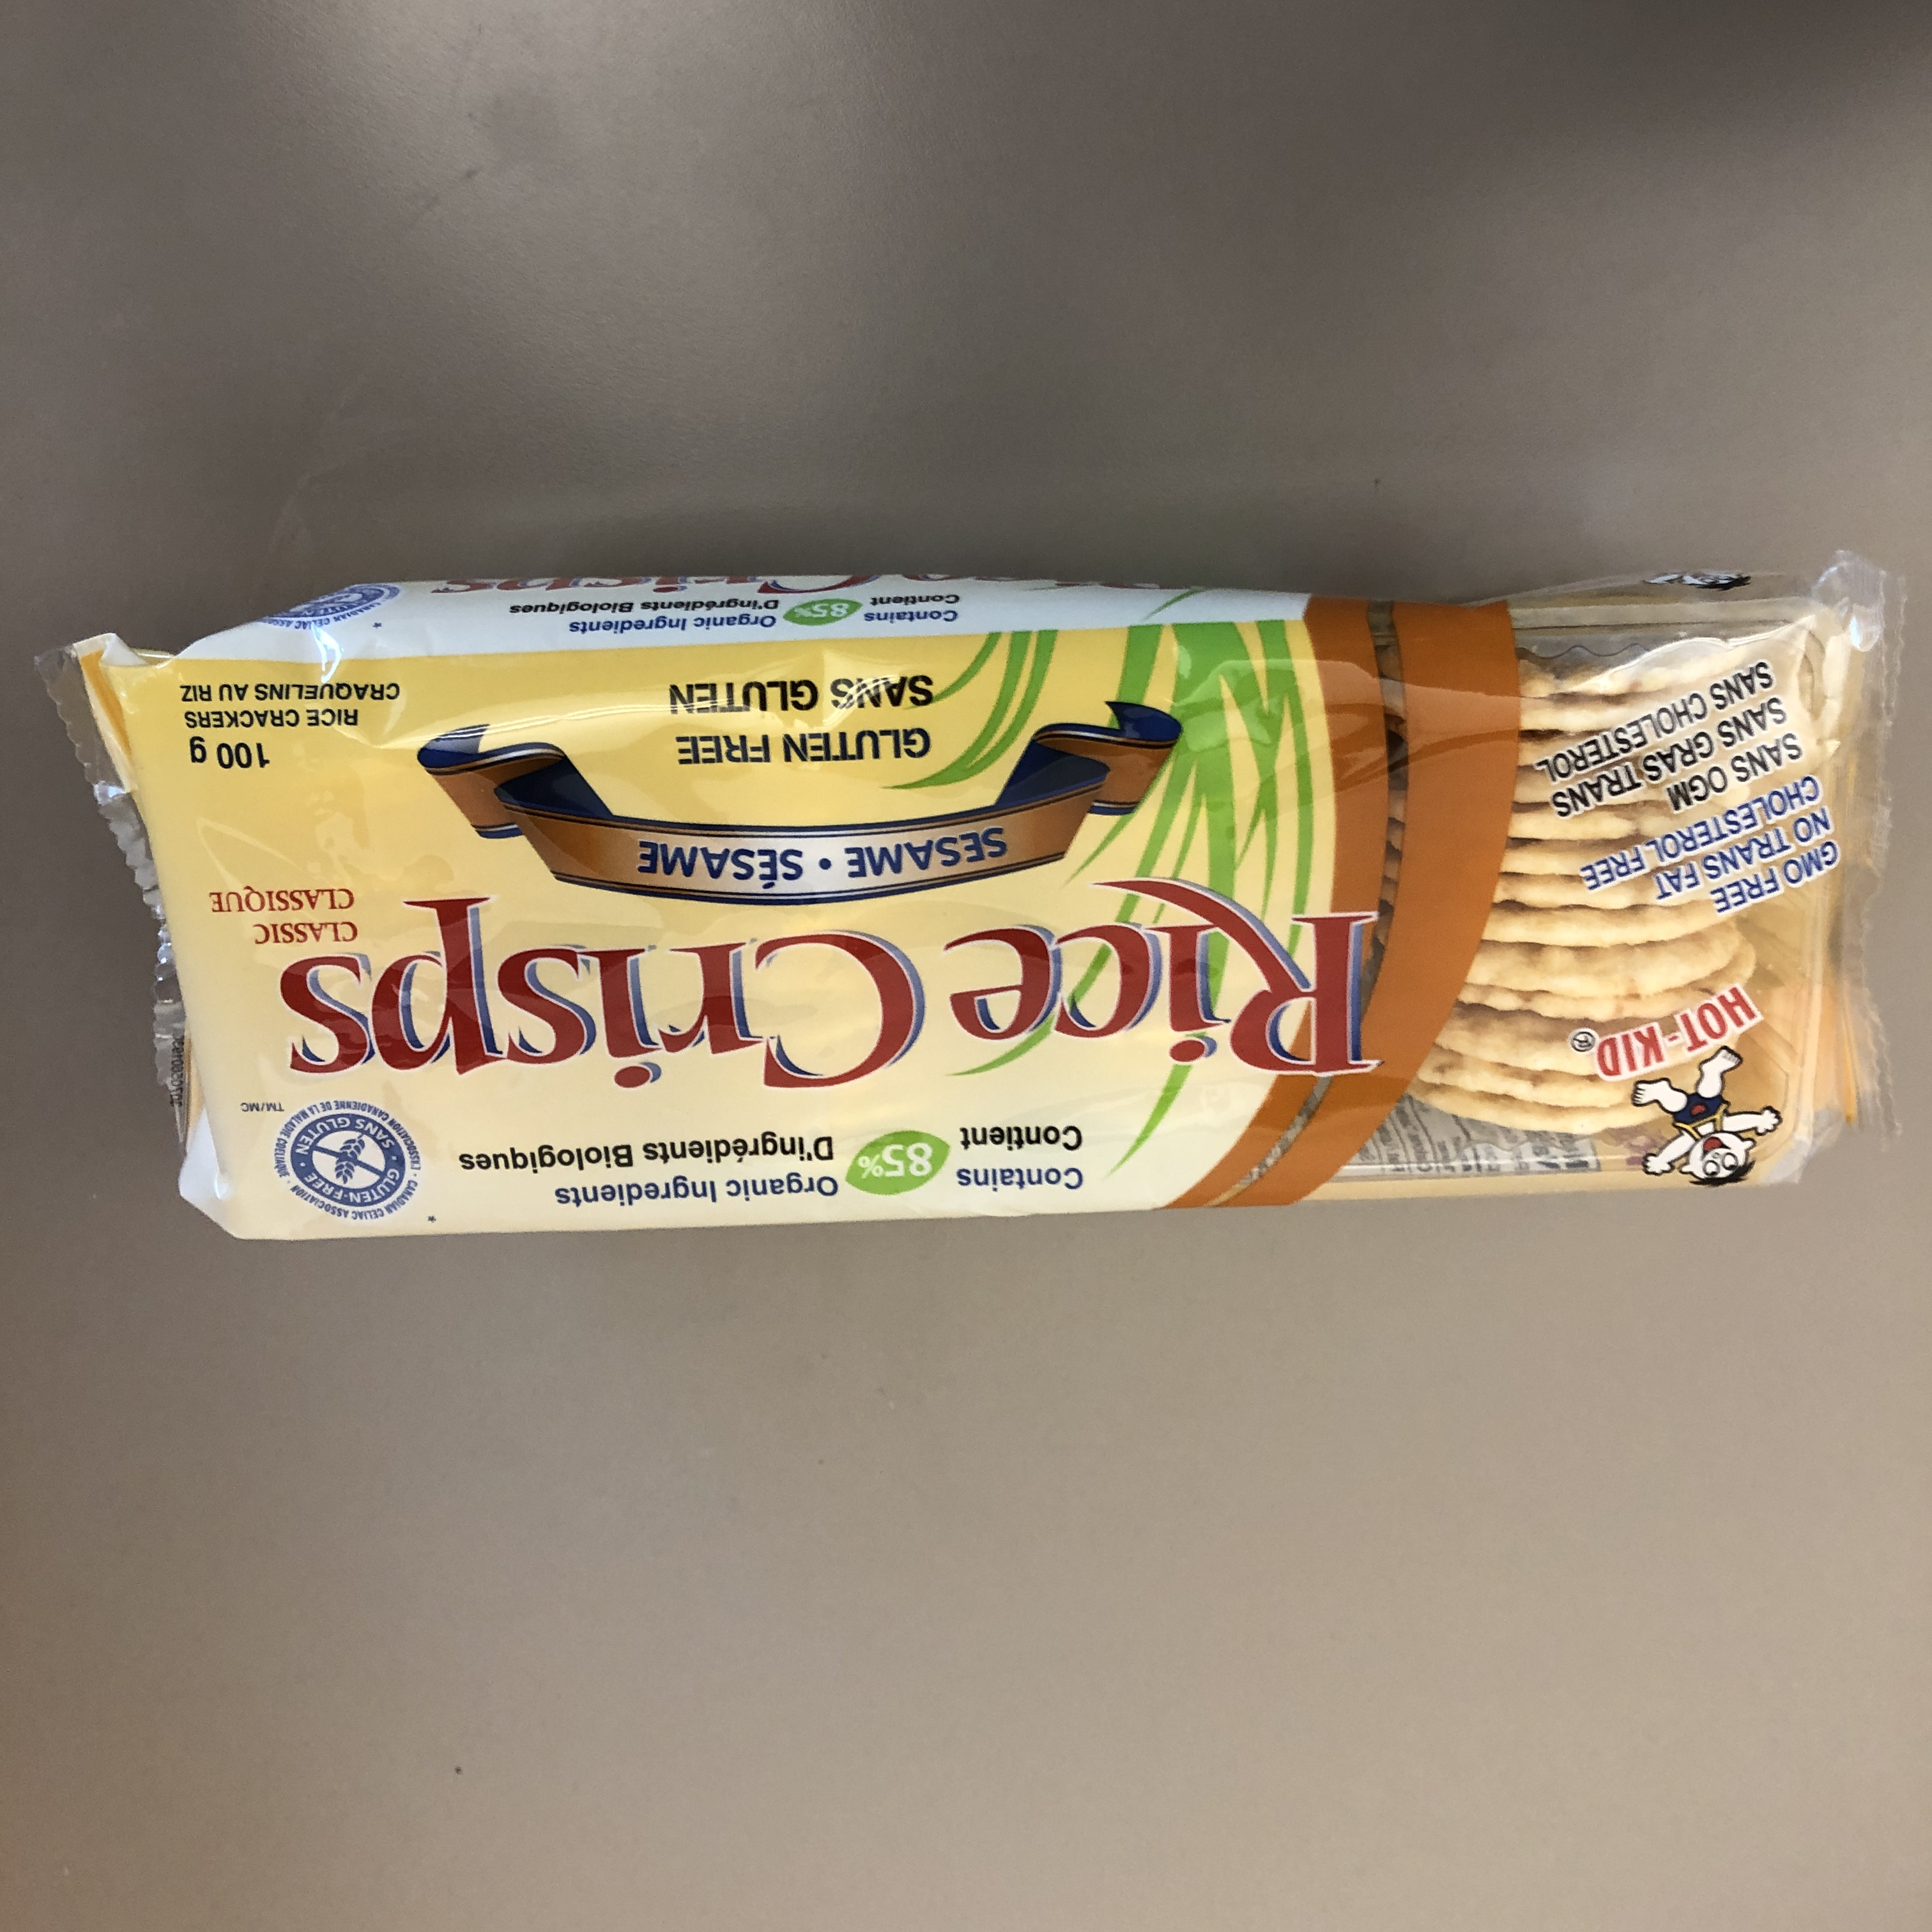hot_kid_rice_crisps_sesame: (544, 41, 1243, 1746)
